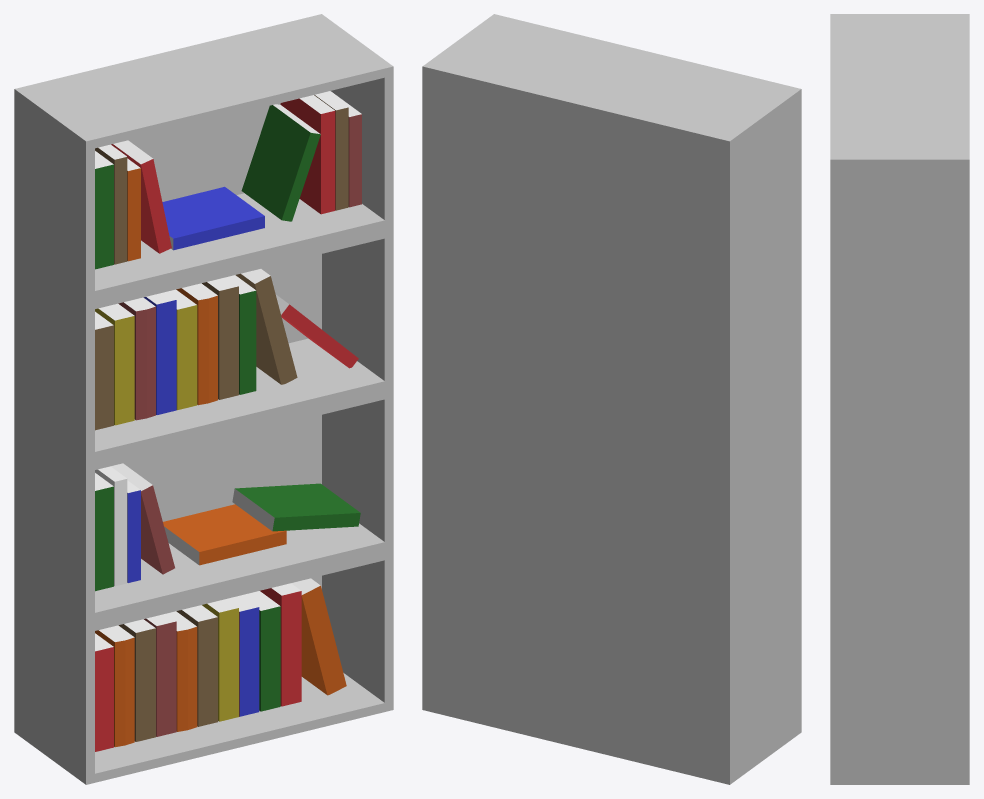
File: BookShelf_03.glb
3 renders of one model, left to right at view 1: azimuth 30°, elevation 25°; view 2: azimuth 150°, elevation 25°; view 3: azimuth 270°, elevation 25°, orthographic. The views are drawn at different scales.
Parts seen in each view (by area): view 1: BookShelf03; view 2: BookShelf03; view 3: BookShelf03.
Part boxes in pixels (x1,y1,x2,y2): BookShelf03: (14,14,393,784); BookShelf03: (422,14,801,784); BookShelf03: (830,14,969,784).
Bounding box in the file's own units: 4.95 × 9.91 × 2.
1 material, 1 textured.
